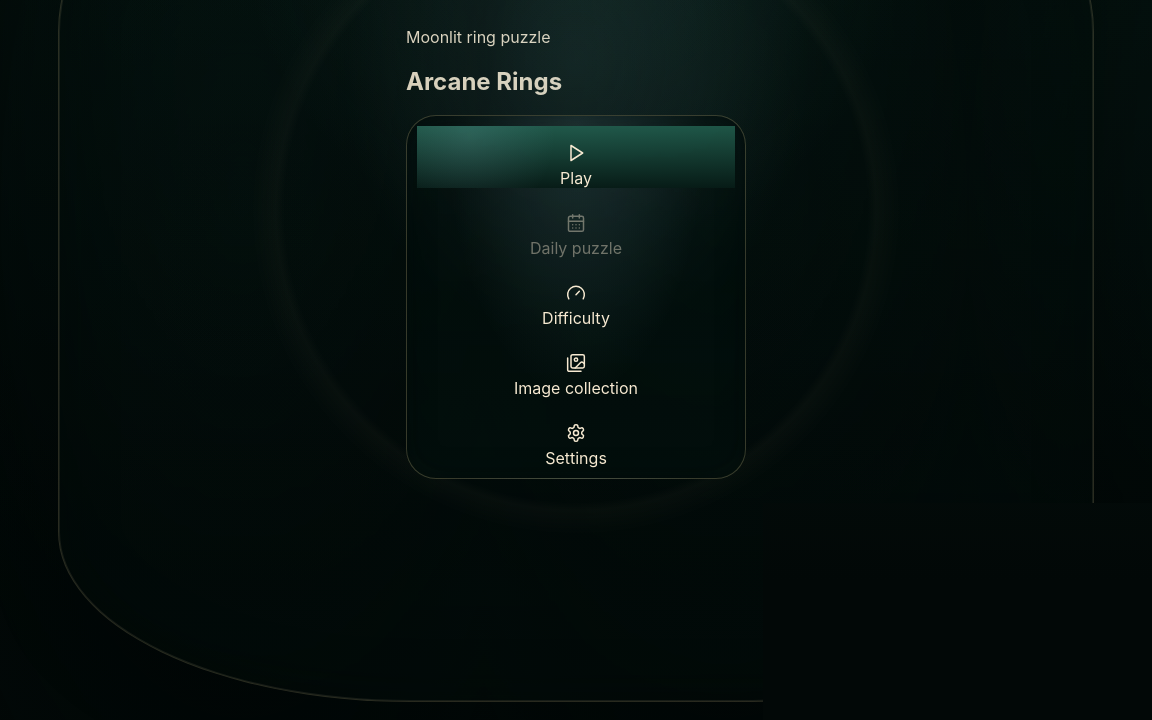
Test: Arcane Rings menu and overlay UI › reset progress clears current and legacy best-score keys
(page scrolled)
Click the button "Settings" at [576, 437], box x1=417 y1=406 x2=735 y2=468
(page scrolled)
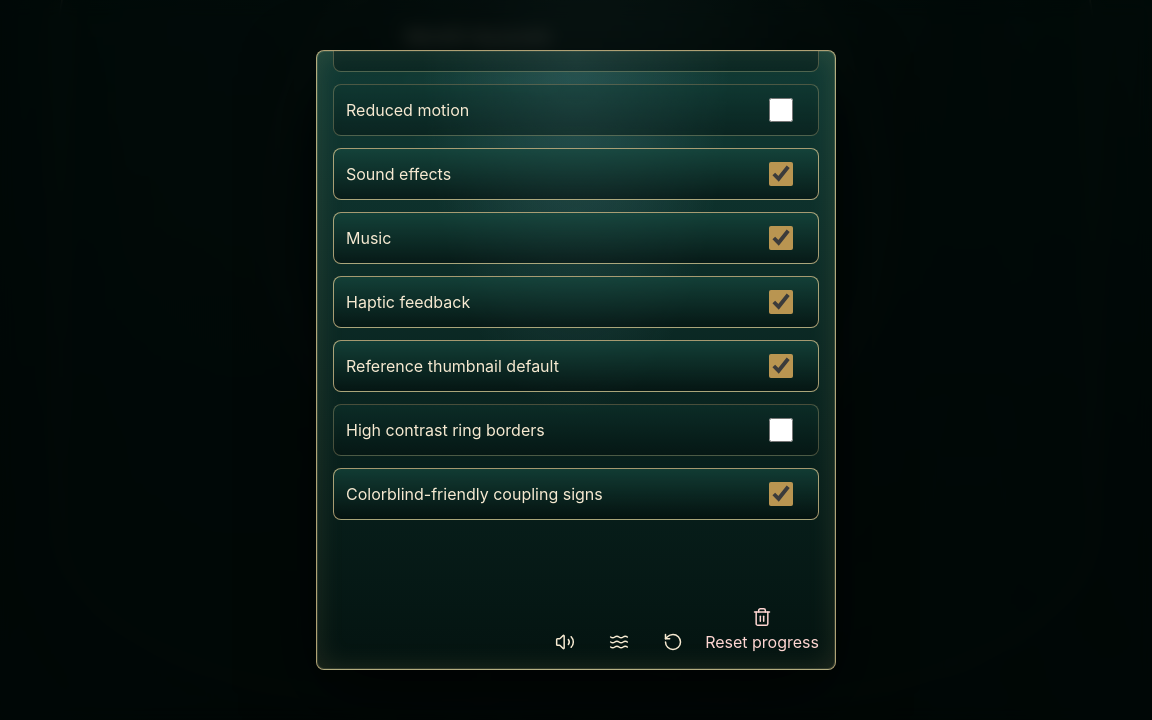
Click the button "Reset progress" at [762, 621], box x1=705 y1=590 x2=819 y2=652
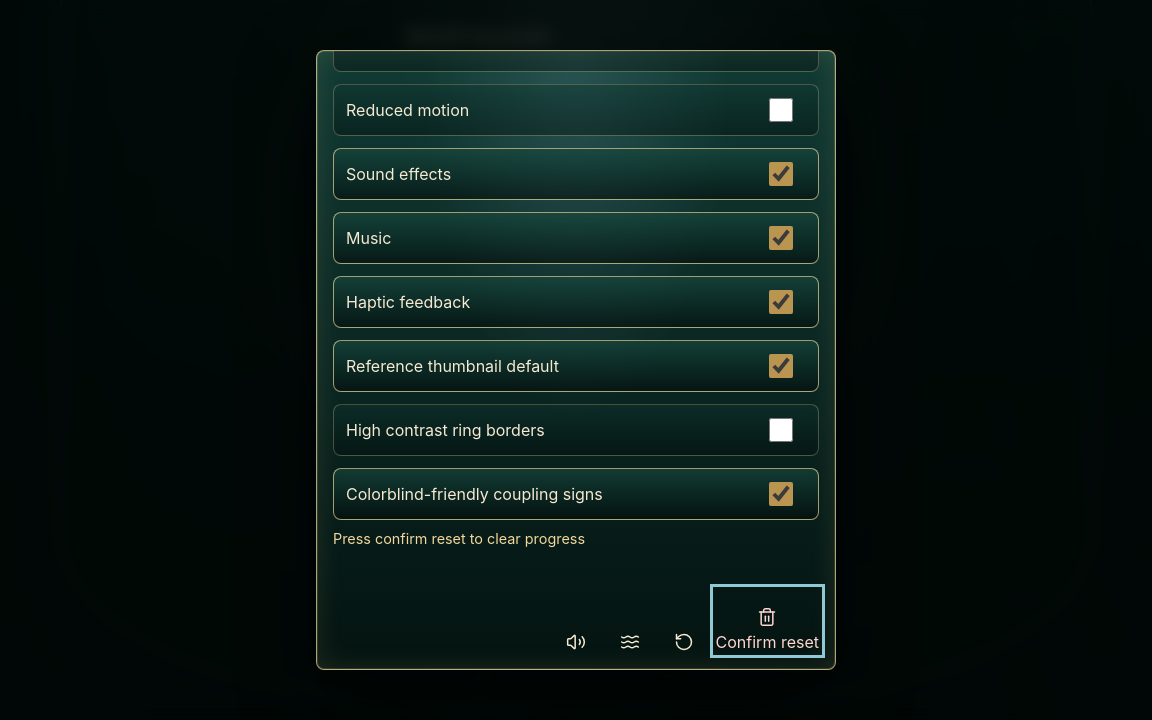
Click the button "Confirm reset" at [767, 621], box x1=716 y1=590 x2=819 y2=652
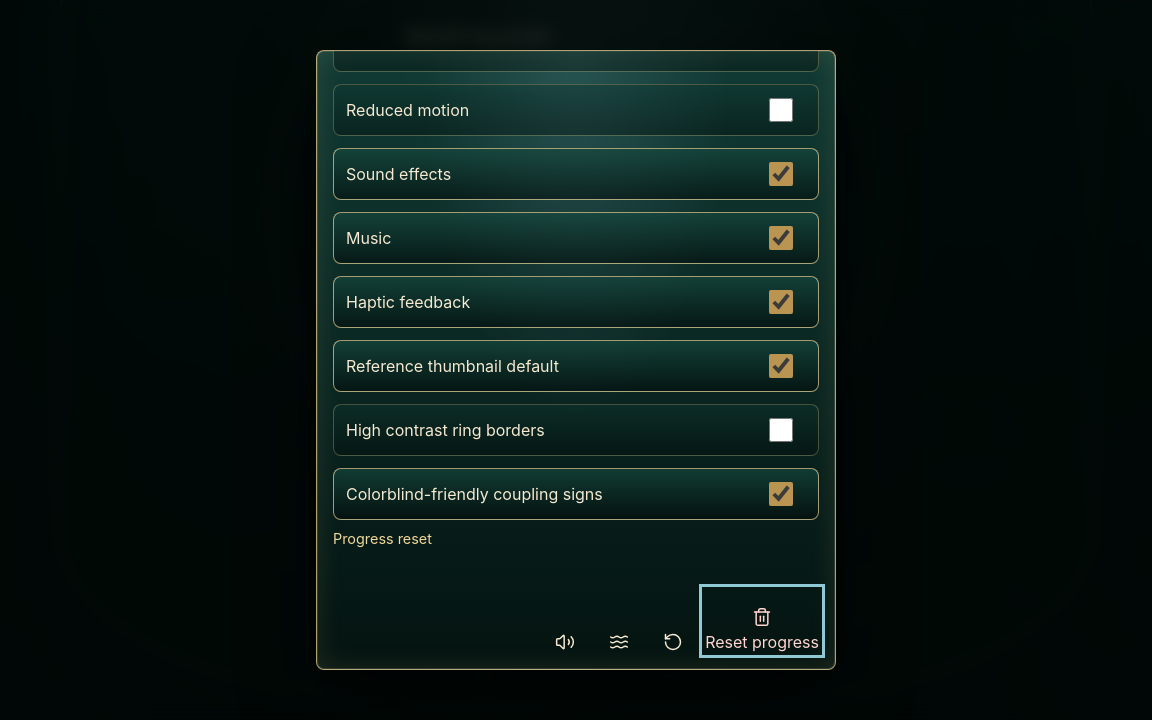
Result: the message reads "Progress reset" at x1=333 y1=530 x2=432 y2=547
